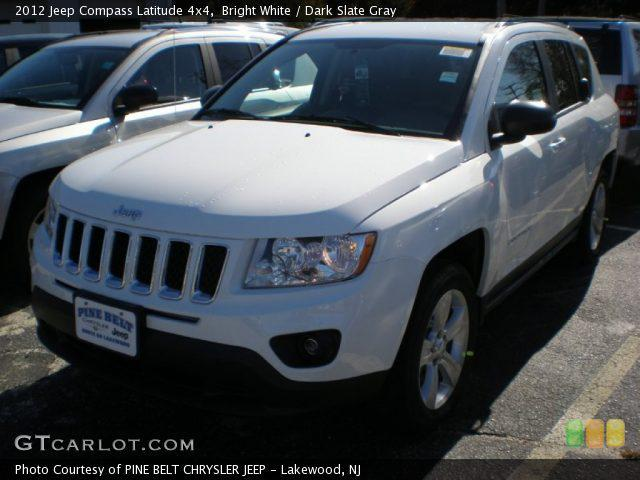Car: (23, 4, 638, 441)
